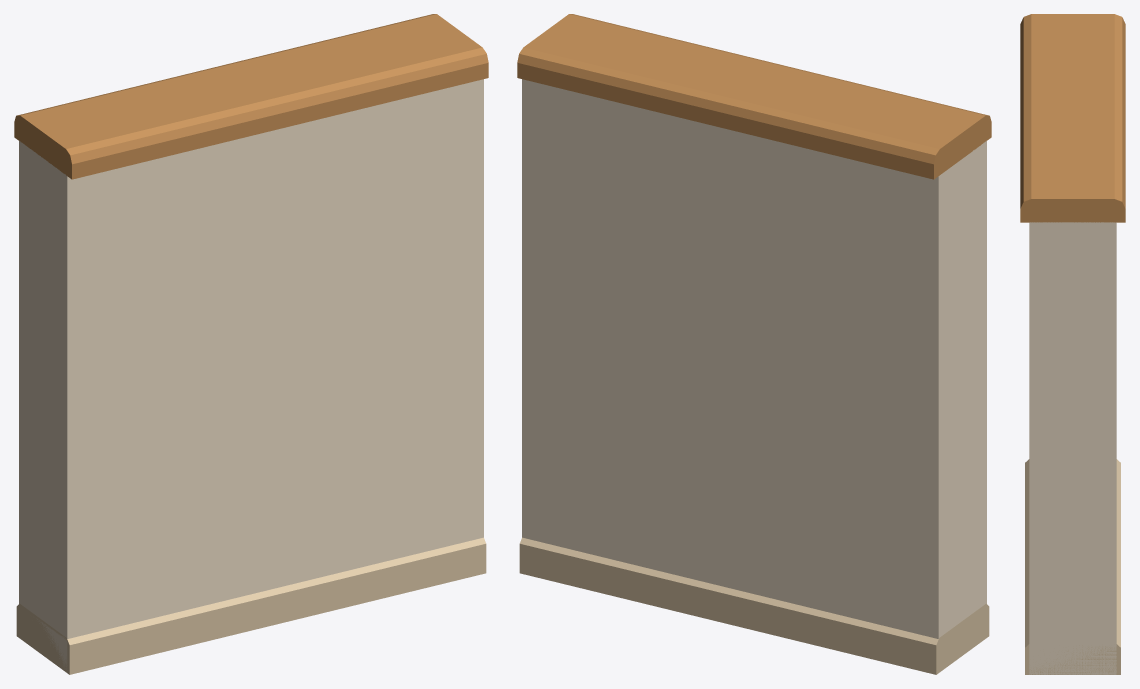
File: wg_wand_halb.glb
3 views of the same model, side by side, from view 1: azimuth 30°, elevation 25°; view 2: azimuth 150°, elevation 25°; view 3: azimuth 270°, elevation 25° (orthographic). The views are drawn at different scales.
Parts seen in each view (by area): view 1: wg_wand_halb; view 2: wg_wand_halb; view 3: wg_wand_halb.
Boxes of the visible parts, <box> form: wg_wand_halb: <box>14,14,488,674</box>; wg_wand_halb: <box>517,14,991,674</box>; wg_wand_halb: <box>1020,14,1125,674</box>.
Size of the model in its own units: 1 by 1.2 by 0.24.
